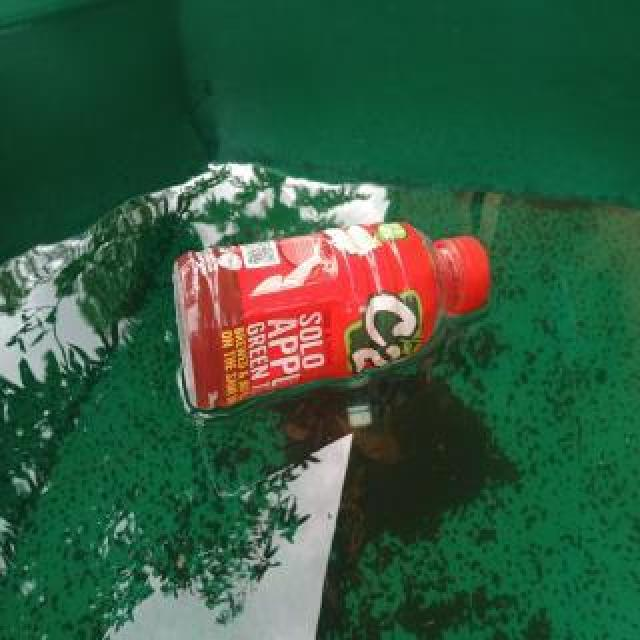bottle: (172, 213, 494, 421)
